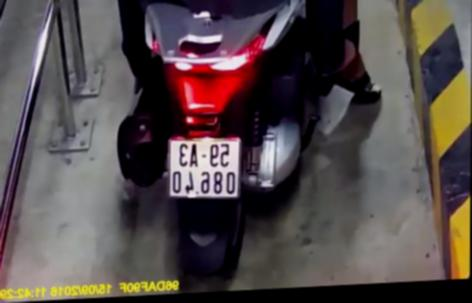License_Plate: (160, 132, 250, 207)
